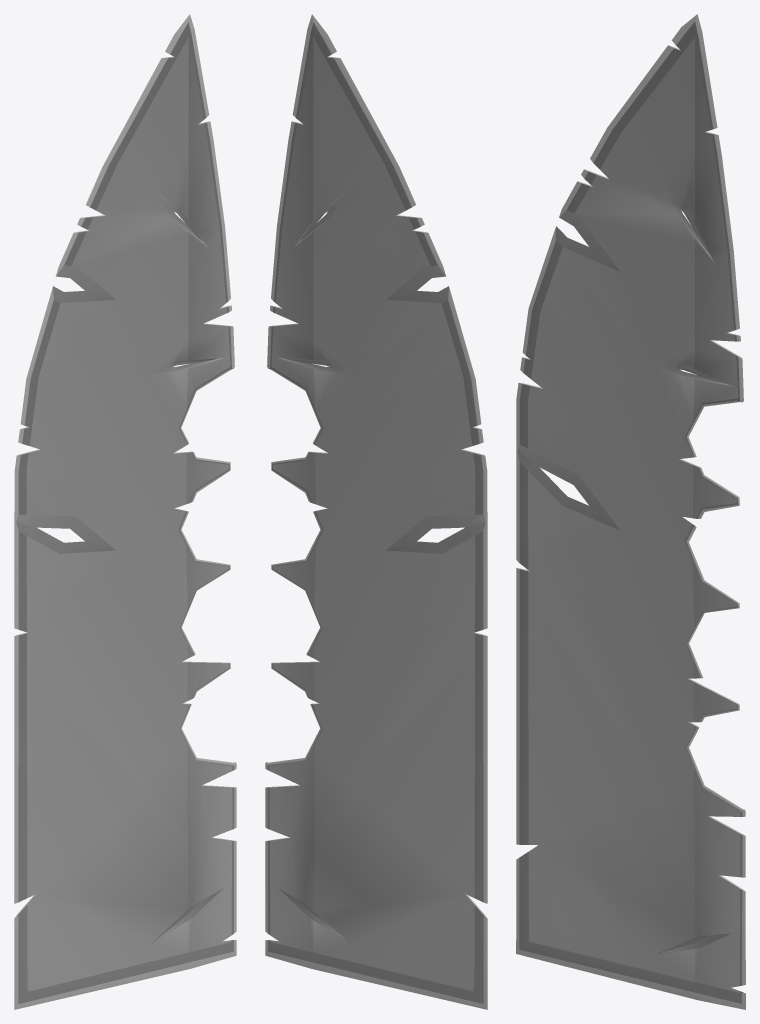
Rendered from stone_blade_scratched_061.glb.
3 renders of one model, left to right at view 1: azimuth 30°, elevation 25°; view 2: azimuth 150°, elevation 25°; view 3: azimuth 330°, elevation 25°, orthographic. The views are drawn at different scales.
Parts seen in each view (by area): view 1: stone_blade_scratched.061; view 2: stone_blade_scratched.061; view 3: stone_blade_scratched.061.
Boxes of the visible parts, x1=… form: stone_blade_scratched.061: x1=14, y1=14, x2=236, y2=1009; stone_blade_scratched.061: x1=265, y1=14, x2=487, y2=1009; stone_blade_scratched.061: x1=516, y1=14, x2=745, y2=1009.
Bounding box in the file's own units: 2.79 × 11.43 × 0.0204.
Materials: 1 (1 with a texture image).
